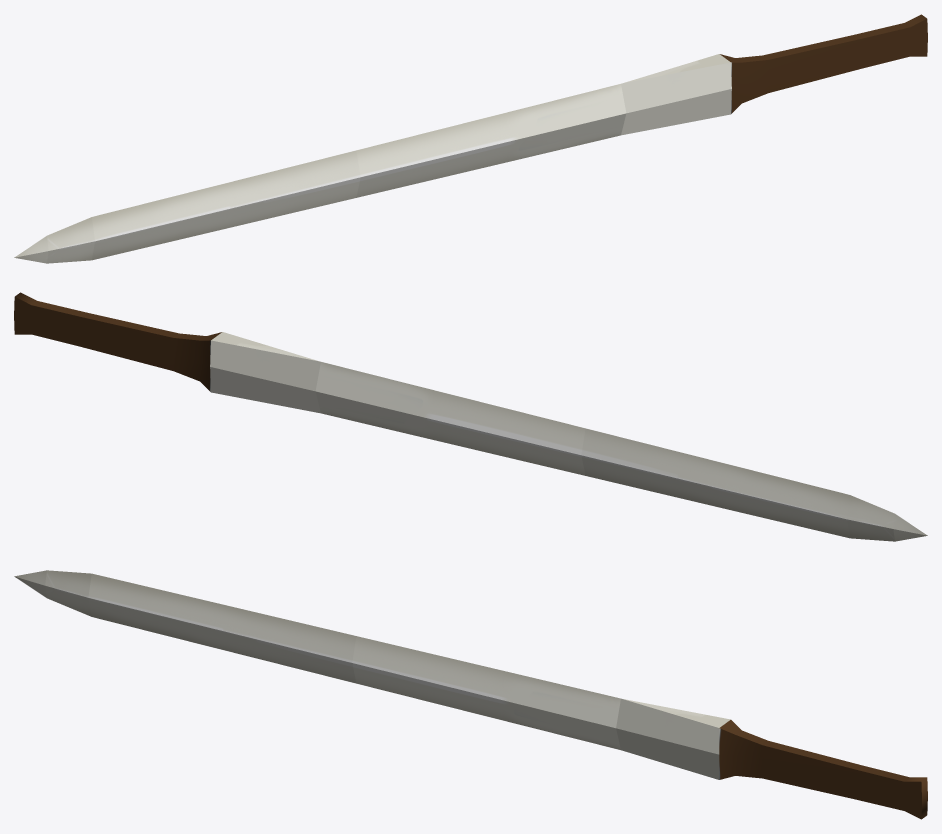
Rendered from player_weapon.FBX.
The picture shows the model from 3 angles, top to bottom: view 1: azimuth 30°, elevation 25°; view 2: azimuth 150°, elevation 25°; view 3: azimuth 330°, elevation 25°; orthographic projection.
Parts seen in each view (by area): view 1: Box003; view 2: Box003; view 3: Box003.
Part boxes in pixels (bbox=[...]): Box003: bbox=[14, 14, 927, 263]; Box003: bbox=[14, 292, 927, 541]; Box003: bbox=[14, 570, 927, 819].
Size of the model in its own units: 231 by 12.62 by 5.6.
Materials: 1 (1 with a texture image).
